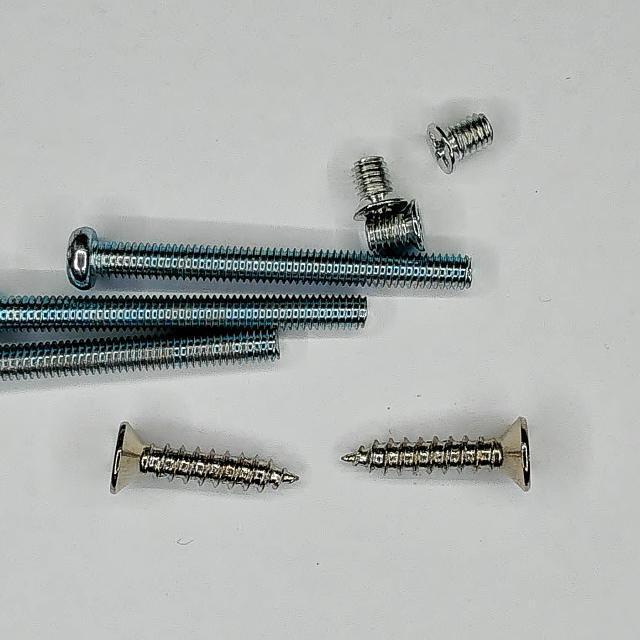Screw: (66, 227, 473, 290), (342, 417, 532, 492), (0, 331, 279, 380), (110, 423, 299, 494), (0, 295, 368, 331), (428, 113, 494, 174), (353, 156, 409, 220), (366, 200, 425, 250)
